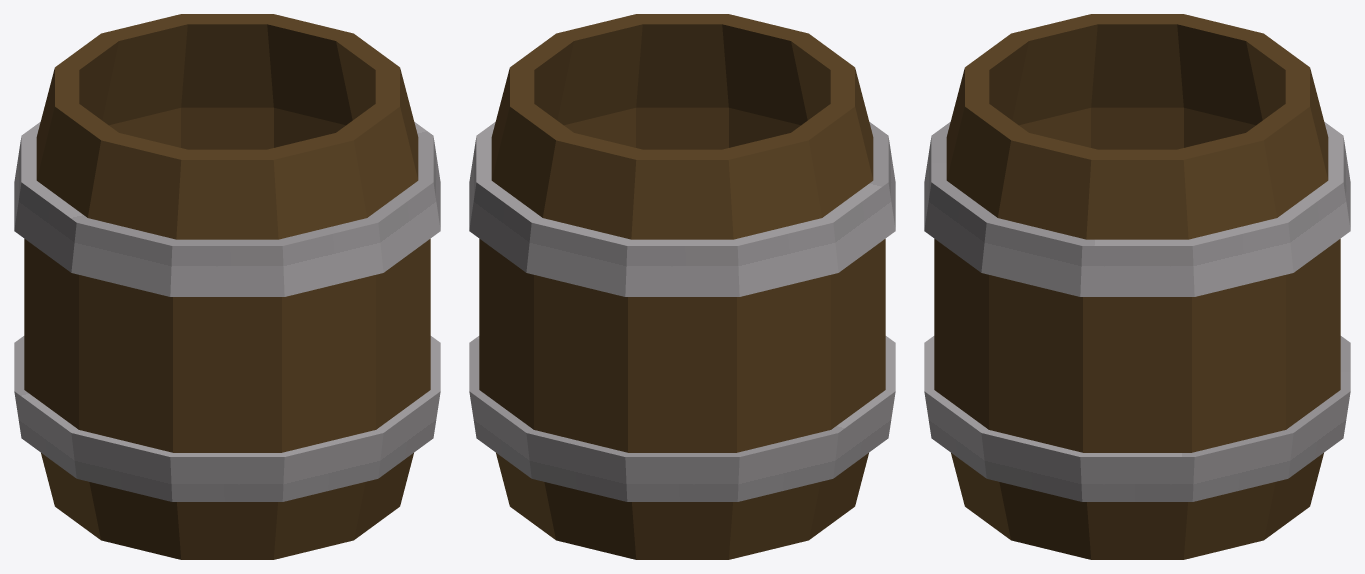
Rendered from barrelOpen.obj.
3 renders of one model, left to right at view 1: azimuth 30°, elevation 25°; view 2: azimuth 150°, elevation 25°; view 3: azimuth 270°, elevation 25°, orthographic.
Visible parts, largest first — view 1: Barril_Abierto_object3.034; view 2: Barril_Abierto_object3.034; view 3: Barril_Abierto_object3.034.
Part boxes in pixels (x1,y1,x2,y2): Barril_Abierto_object3.034: [14, 14, 440, 559]; Barril_Abierto_object3.034: [469, 14, 895, 559]; Barril_Abierto_object3.034: [924, 14, 1350, 559].
Size of the model in its own units: 25.13 by 26.01 by 25.13.
1 material, 1 textured.
